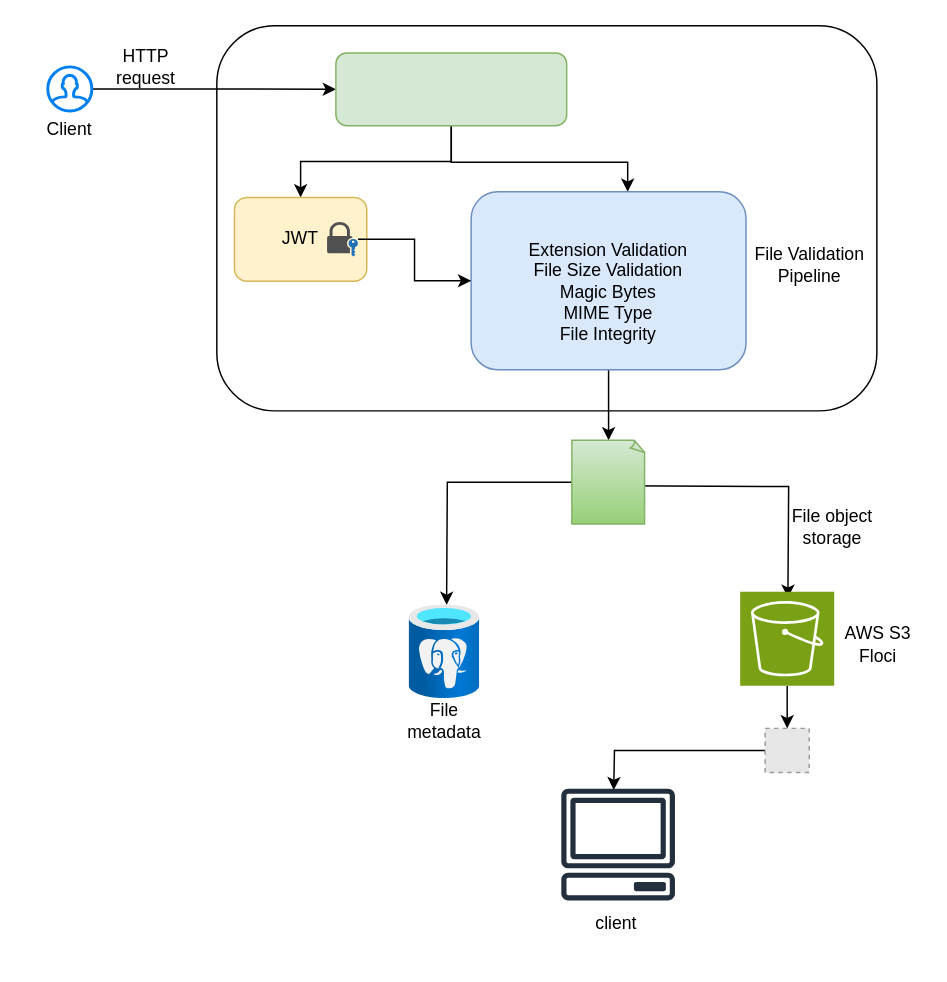
The diagram is 947 pixels wide and 982 high, and some of its shapes have lost their labels. Grey dashed boxes stand in for pictures. The shapes that lost their labels are listed below. From the top down, each one's box as (x1, y1, x2, y2) in pixels, then its label:
(334, 51, 567, 126): Fast API API Application
(570, 439, 645, 524): Validated File
